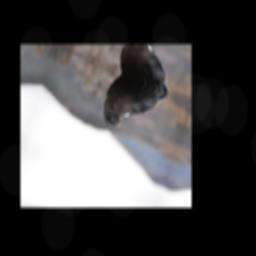Crow: (95, 70, 171, 147)
